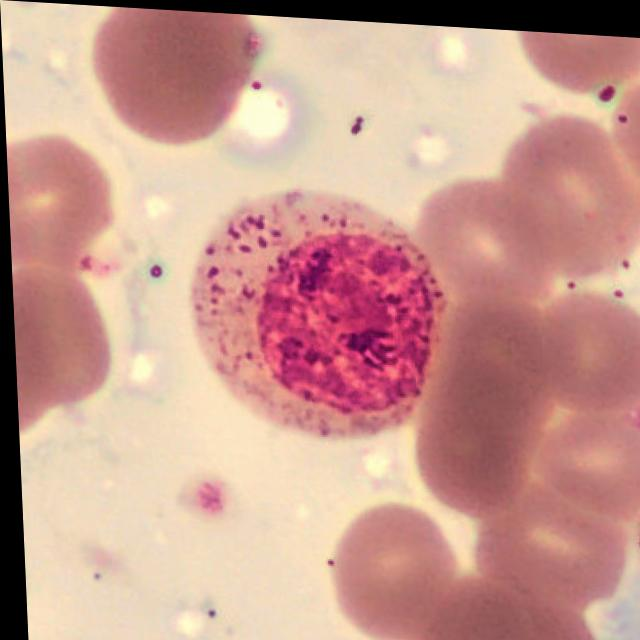Mielocito: (187, 183, 443, 433)
